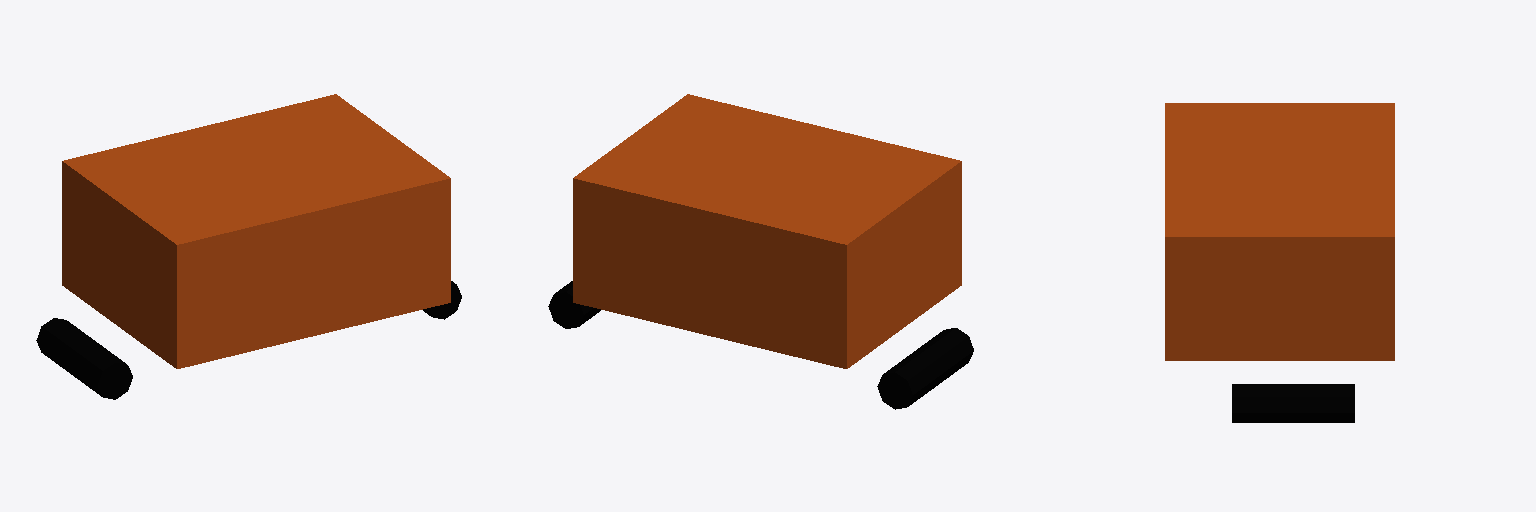
Rendered from asv_very_low.obj.
3 views of the same model, side by side, from view 1: azimuth 30°, elevation 25°; view 2: azimuth 150°, elevation 25°; view 3: azimuth 270°, elevation 25° (orthographic).
Size of the model in its own units: 5.11 by 2.31 by 2.79.